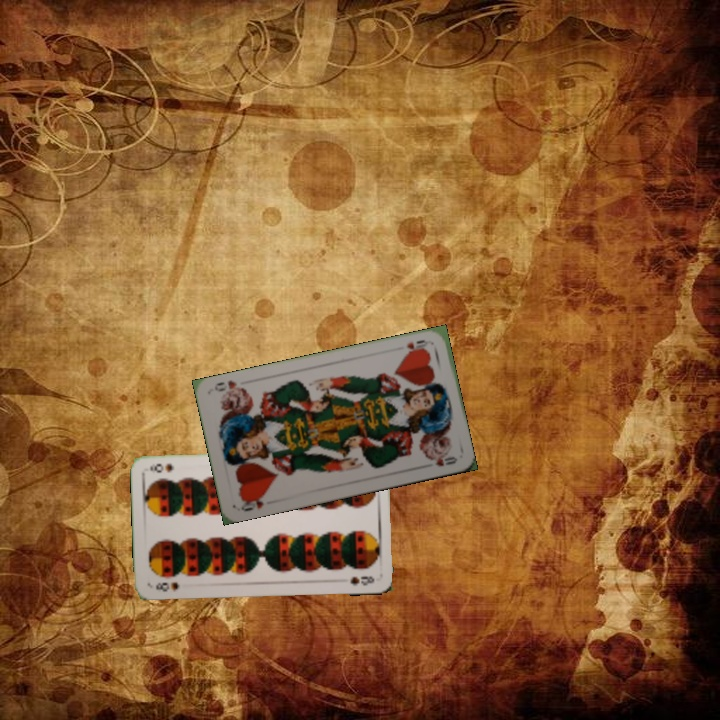HO: (237, 491, 268, 514), (401, 336, 433, 357)
S8: (152, 578, 182, 594)
